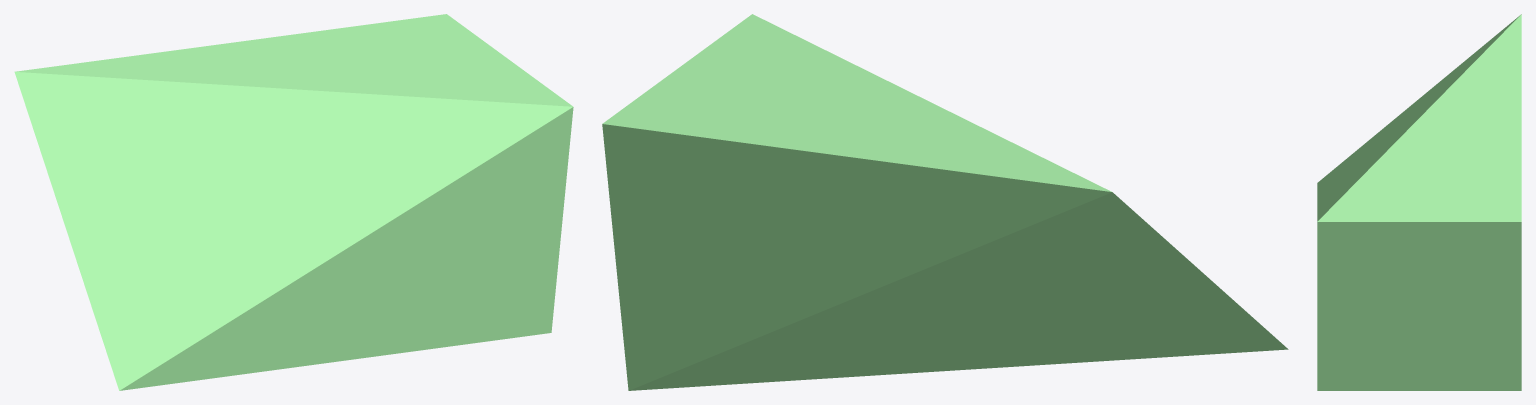
Rendered from UMIRobot_robot_base_coll_1.dae.
The picture shows the model from 3 angles, left to right: view 1: azimuth 30°, elevation 25°; view 2: azimuth 150°, elevation 25°; view 3: azimuth 270°, elevation 25°; orthographic projection. The views are drawn at different scales.
Parts seen in each view (by area): view 1: node; view 2: node; view 3: node.
Part boxes in pixels (x1,y1,x2,y2): node: (14, 14, 573, 390); node: (602, 14, 1288, 390); node: (1317, 14, 1521, 390).
Size of the model in its own units: 0.0424 by 0.0239 by 0.0205.
